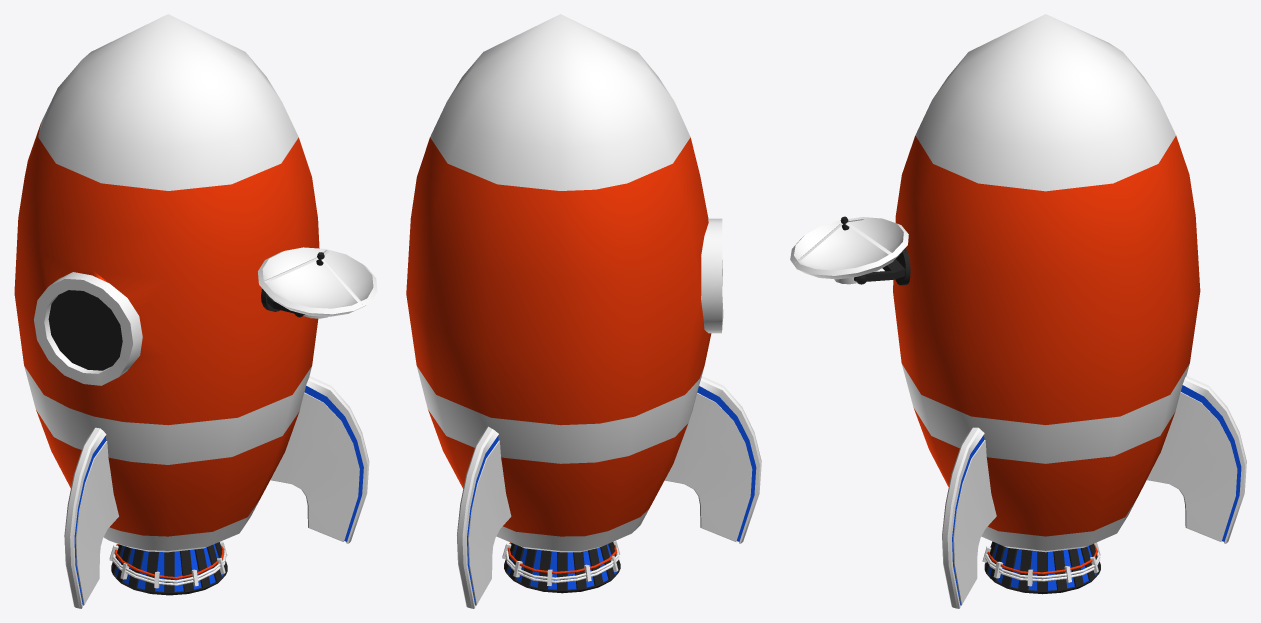
The model's file is spaceship.FBX.
3 renders of one model, left to right at view 1: azimuth 30°, elevation 25°; view 2: azimuth 150°, elevation 25°; view 3: azimuth 270°, elevation 25°, orthographic.
Parts seen in each view (by area): view 1: SatelliteDish, Satellite, Wing, Thruster; view 2: SatelliteDish, Wing, Thruster; view 3: SatelliteDish, Satellite, Thruster.
Part boxes in pixels (bbox=[...]): SatelliteDish: bbox=[14, 14, 369, 552]; Satellite: bbox=[258, 247, 377, 318]; Wing: bbox=[64, 427, 118, 608]; Thruster: bbox=[109, 541, 227, 595]; SatelliteDish: bbox=[406, 14, 723, 608]; Wing: bbox=[664, 376, 761, 543]; Thruster: bbox=[502, 540, 620, 593]; SatelliteDish: bbox=[893, 14, 1246, 608]; Satellite: bbox=[790, 216, 910, 285]; Thruster: bbox=[982, 541, 1100, 594].
Size of the model in its own units: 75.61 by 133 by 98.36.
